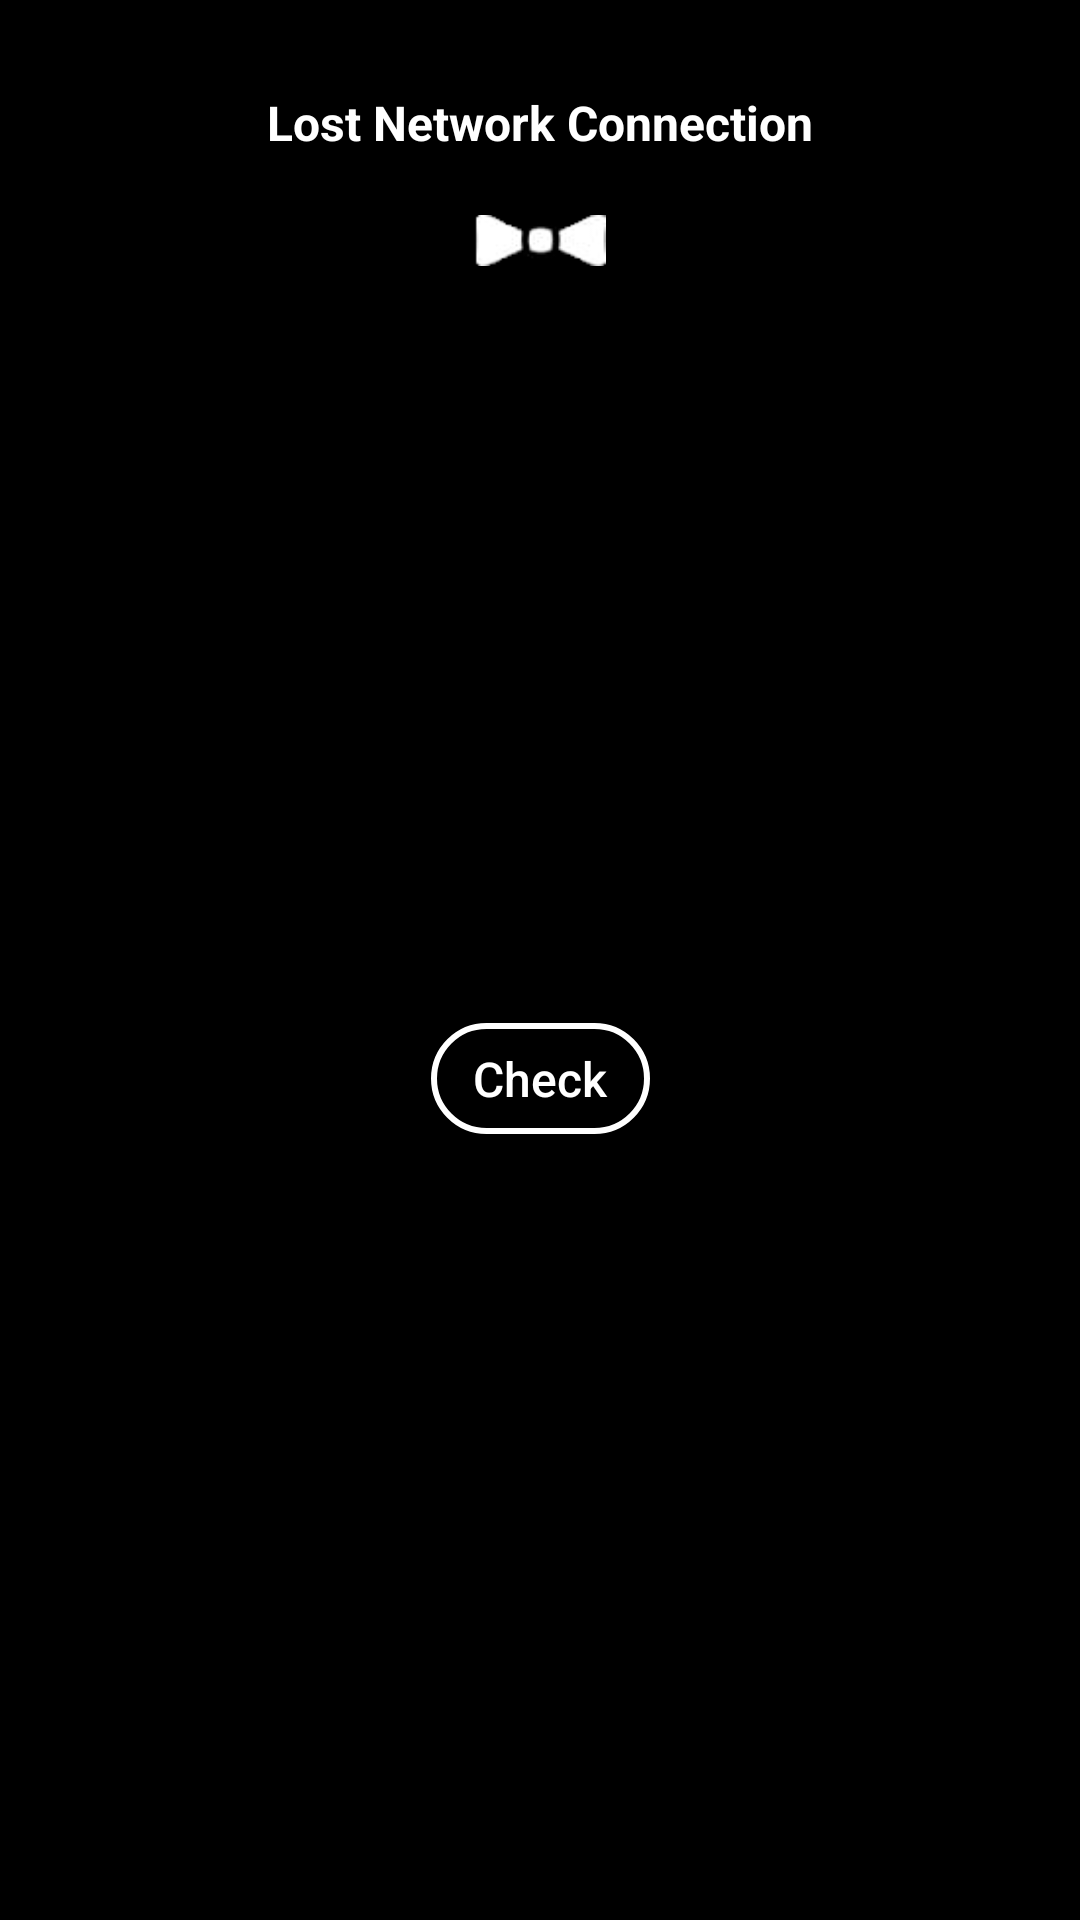

Named icons in this screenshot (1080x1920) and their bounding boxes, (x1, y1, x2, y2):
butterfly internet: (475, 215, 606, 266)
